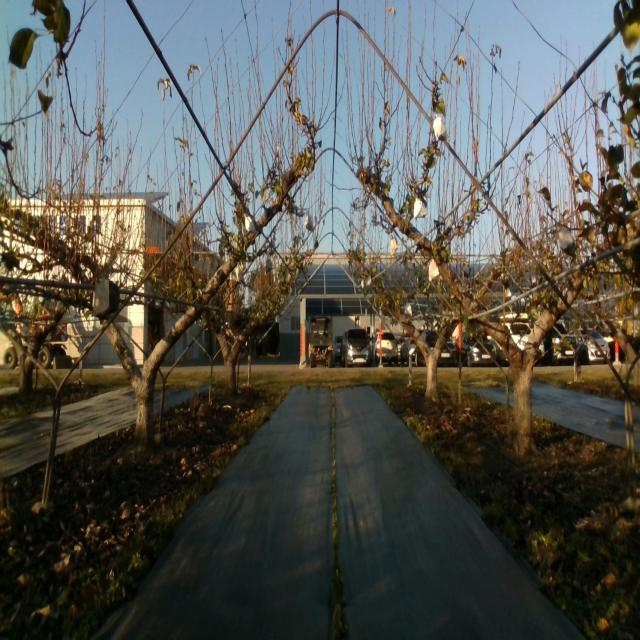pearbags: (558, 228, 576, 258), (433, 113, 448, 143), (414, 197, 427, 219), (429, 258, 439, 282)
